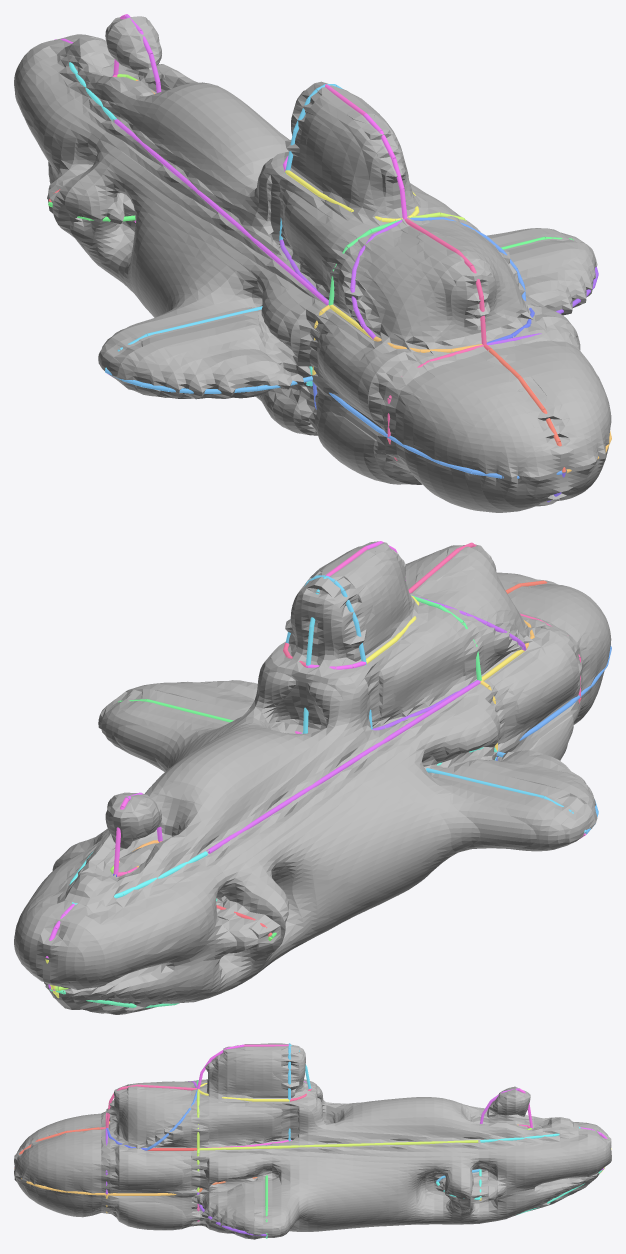
File: scaffolds3d_submarine.gltf
3 views of the same model, one above another, from view 1: azimuth 30°, elevation 25°; view 2: azimuth 150°, elevation 25°; view 3: azimuth 270°, elevation 25° (orthographic). The views are drawn at different scales.
Bounding box in the file's own units: 0.4603 × 0.283 × 0.8577.
